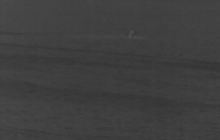dim target: (128, 29, 134, 38)
